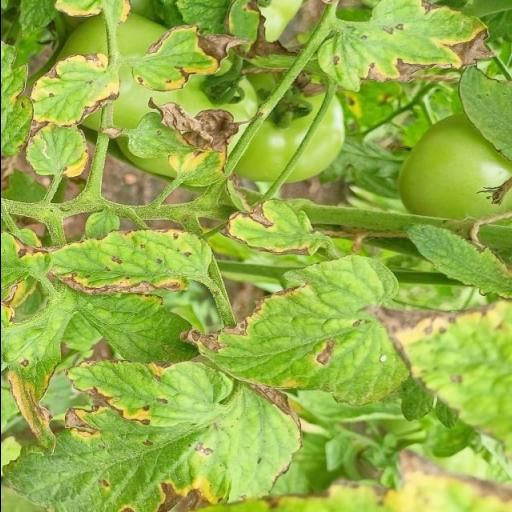Early Blight: (0, 384, 309, 512), (180, 252, 412, 408), (314, 0, 496, 94), (49, 224, 220, 298), (60, 354, 226, 428), (0, 291, 62, 455), (126, 23, 254, 91), (216, 194, 330, 258), (29, 54, 121, 130)
